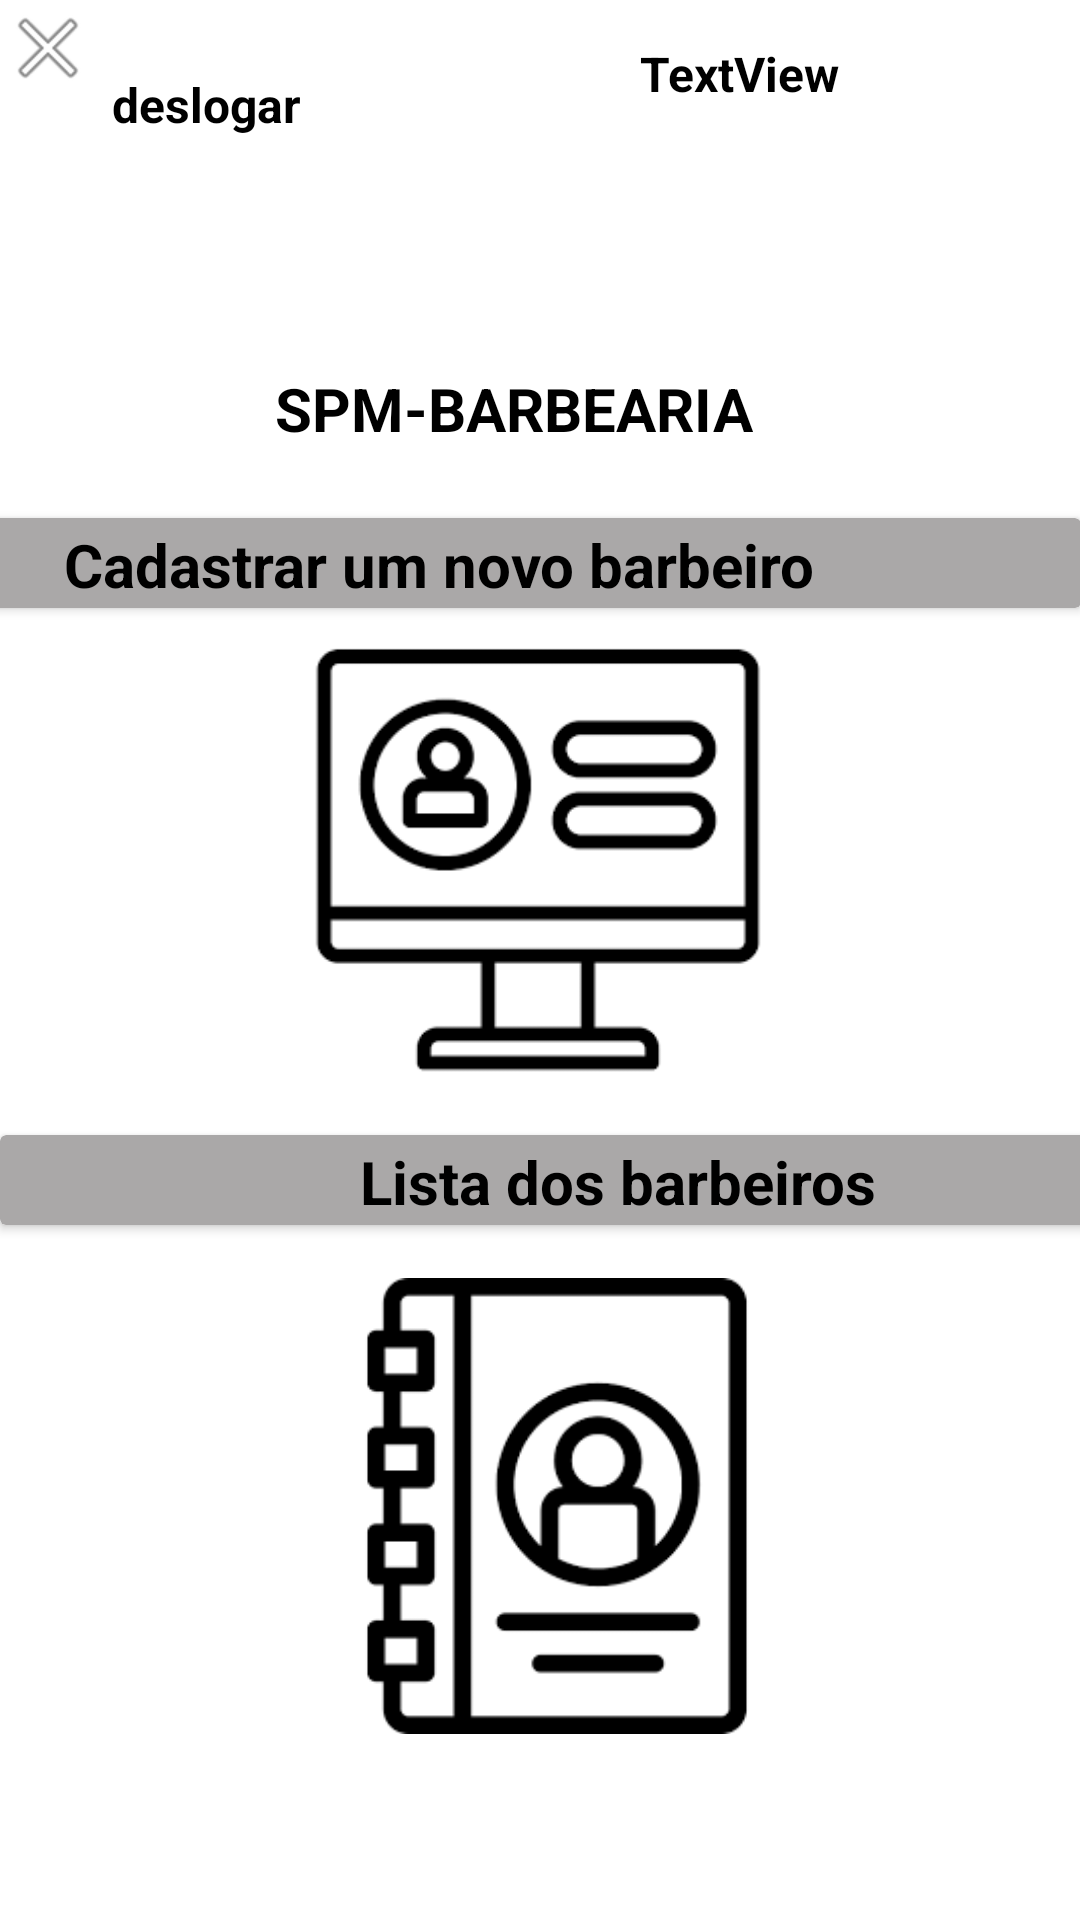

Locate icon controls on the screen. Image size 1080 x 1920, boxes as (x1, y1, x2, y2).
close clear cancel: (18, 18, 78, 78)
